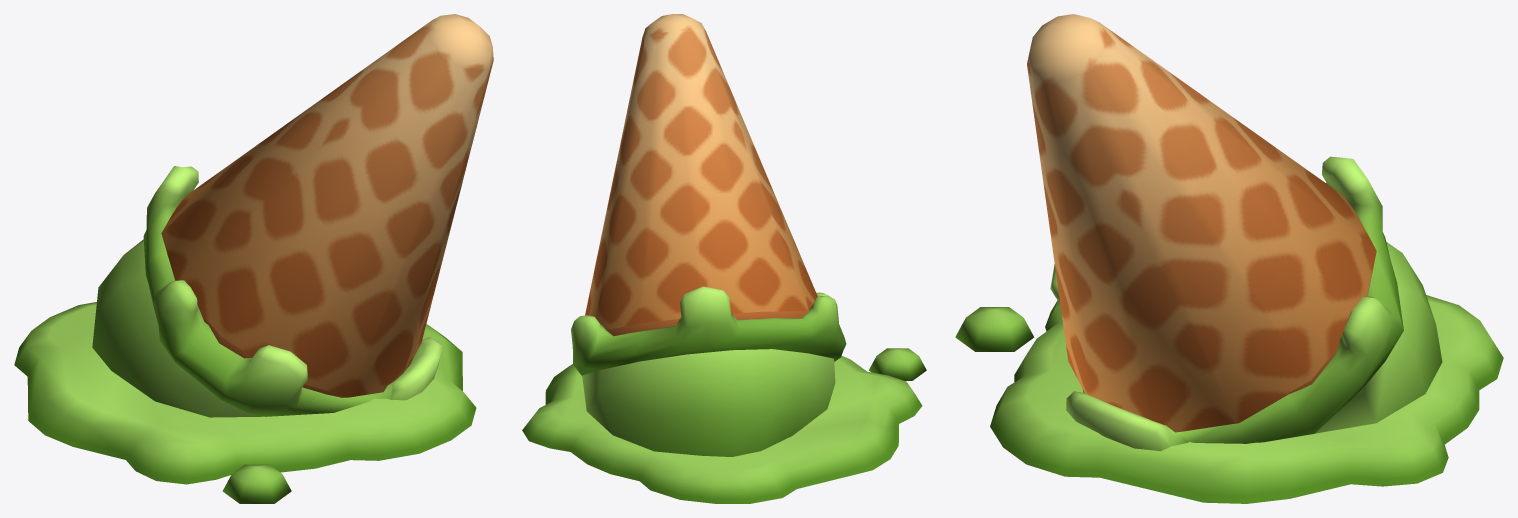
The model's file is m_SpilledIceCream05.fbx.
3 renders of one model, left to right at view 1: azimuth 30°, elevation 25°; view 2: azimuth 150°, elevation 25°; view 3: azimuth 270°, elevation 25°, orthographic. The views are drawn at different scales.
Visible parts, largest first — view 1: m_SpilledIceCream05; view 2: m_SpilledIceCream05; view 3: m_SpilledIceCream05.
Part boxes in pixels (x1,y1,x2,y2): m_SpilledIceCream05: [14, 14, 493, 503]; m_SpilledIceCream05: [522, 14, 926, 503]; m_SpilledIceCream05: [955, 14, 1503, 503].
Bounding box in the file's own units: 12.21 × 11.36 × 12.68.
